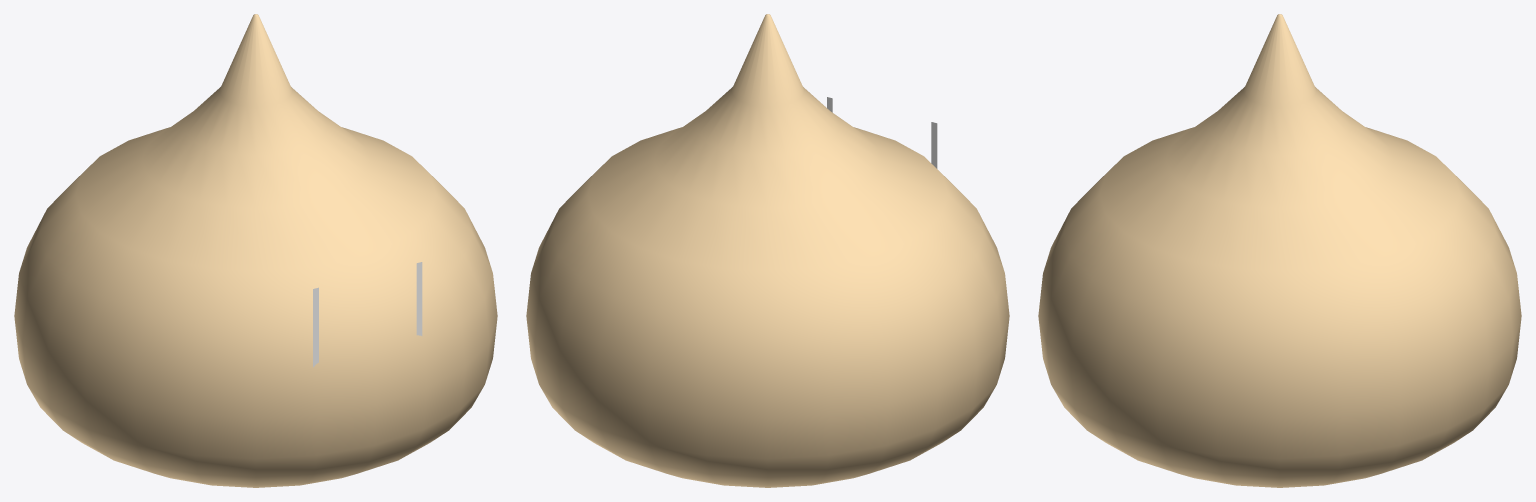
Rendered from odangogaki.glb.
3 views of the same model, side by side, from view 1: azimuth 30°, elevation 25°; view 2: azimuth 150°, elevation 25°; view 3: azimuth 270°, elevation 25° (orthographic).
Parts seen in each view (by area): view 1: Sphere, eye-right; view 2: Sphere; view 3: Sphere.
Boxes of the visible parts, x1,y1,x2,y2 form: Sphere: [14, 14, 497, 487]; eye-right: [416, 262, 422, 335]; Sphere: [526, 14, 1009, 487]; Sphere: [1038, 14, 1521, 487].
Size of the model in its own units: 2 by 1.97 by 2.
